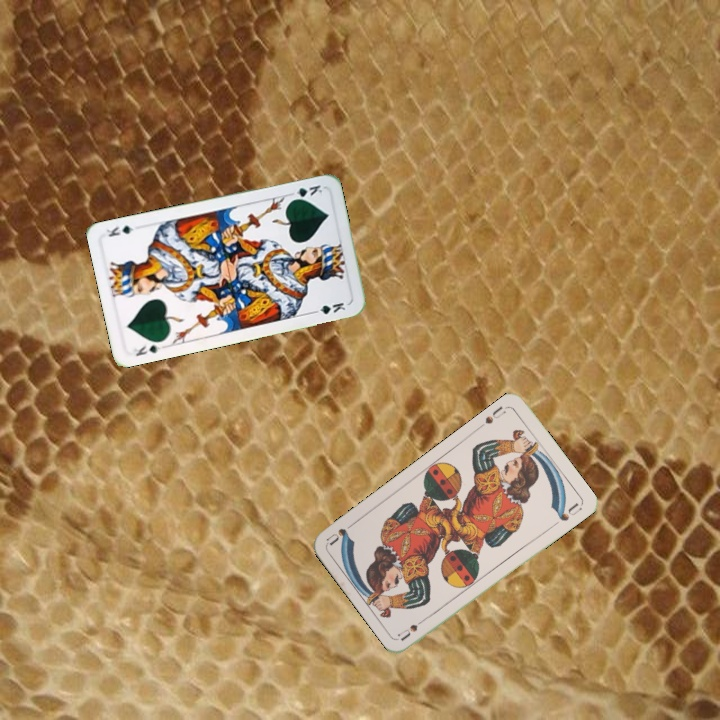GK: (287, 181, 325, 203), (130, 341, 163, 359)
SU: (394, 612, 431, 643), (481, 402, 509, 427)
